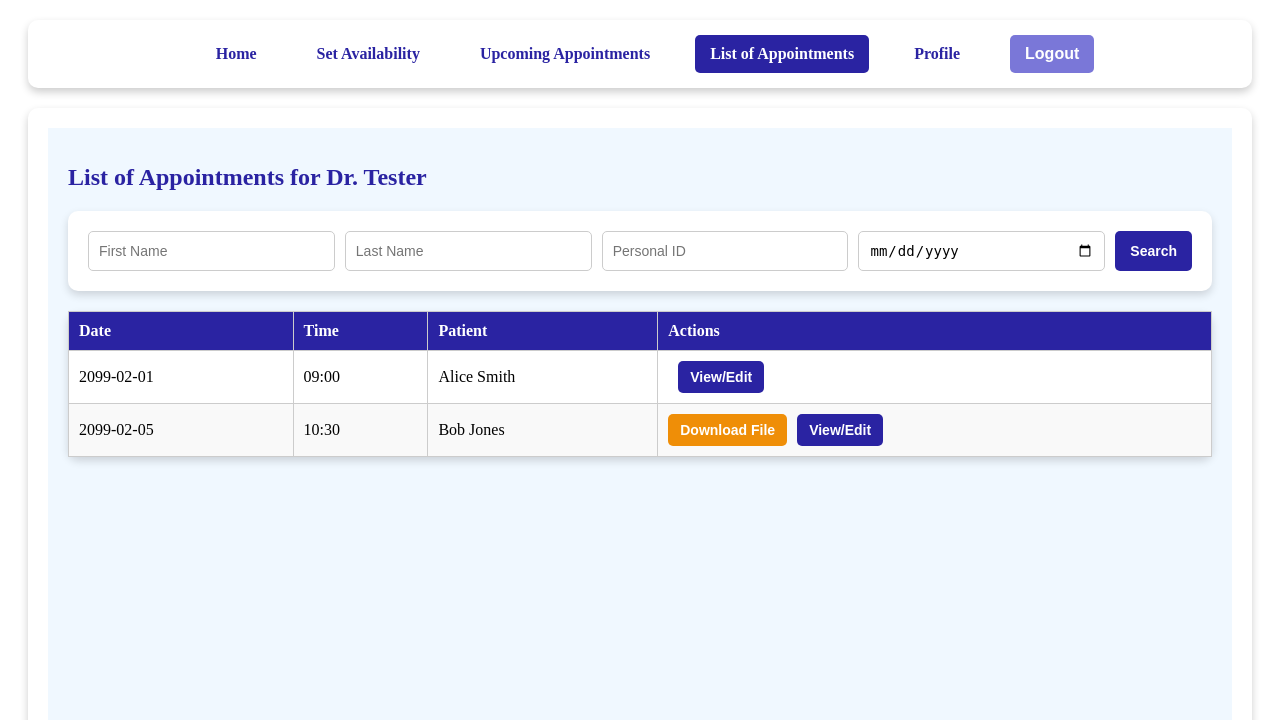
Test: List Of Appointments Page › filters appointments by search criteria
Type "Alice" into the field with placeholder "First Name" at (212, 251), box [88,231,335,271]
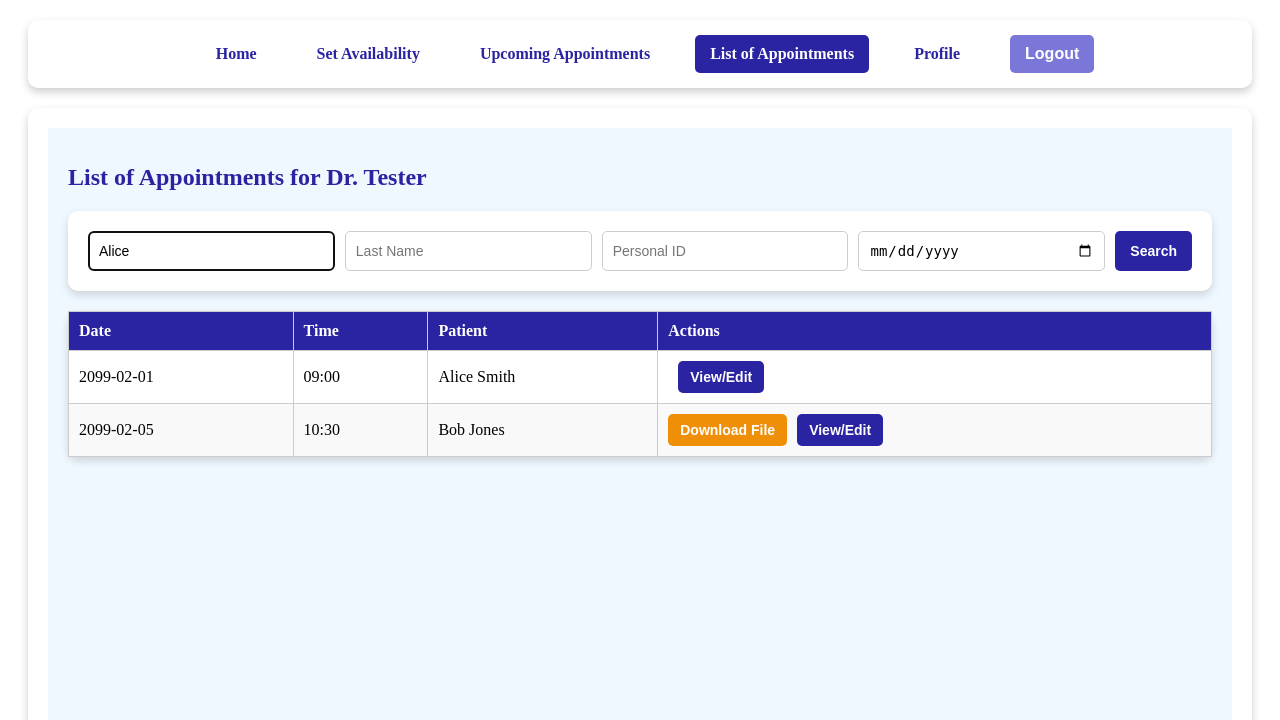
Click the button with class "list-search-button" at (1154, 251), box [1115,231,1192,271]
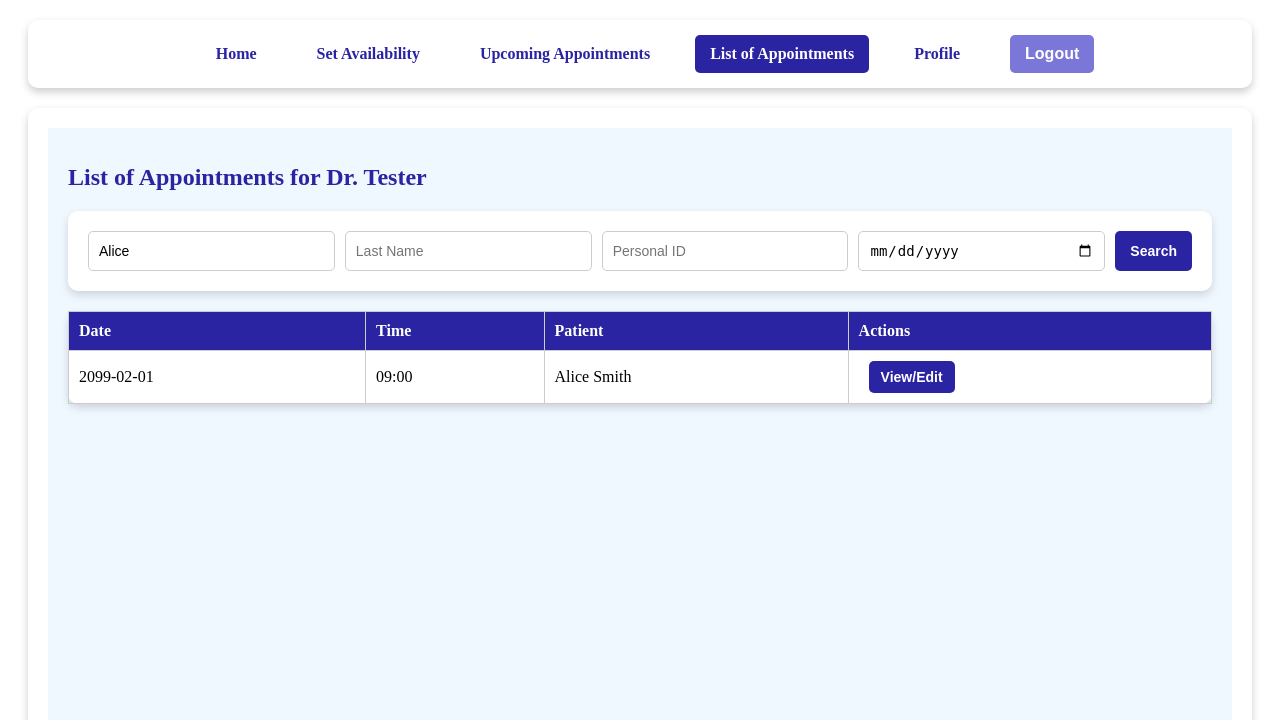
Expected: the text "Alice Smith" is shown, [544,351,848,404]
Expected: the text "Bob Jones" is gone
Clear the field with placeholder "First Name" at (212, 251), box [88,231,335,271]
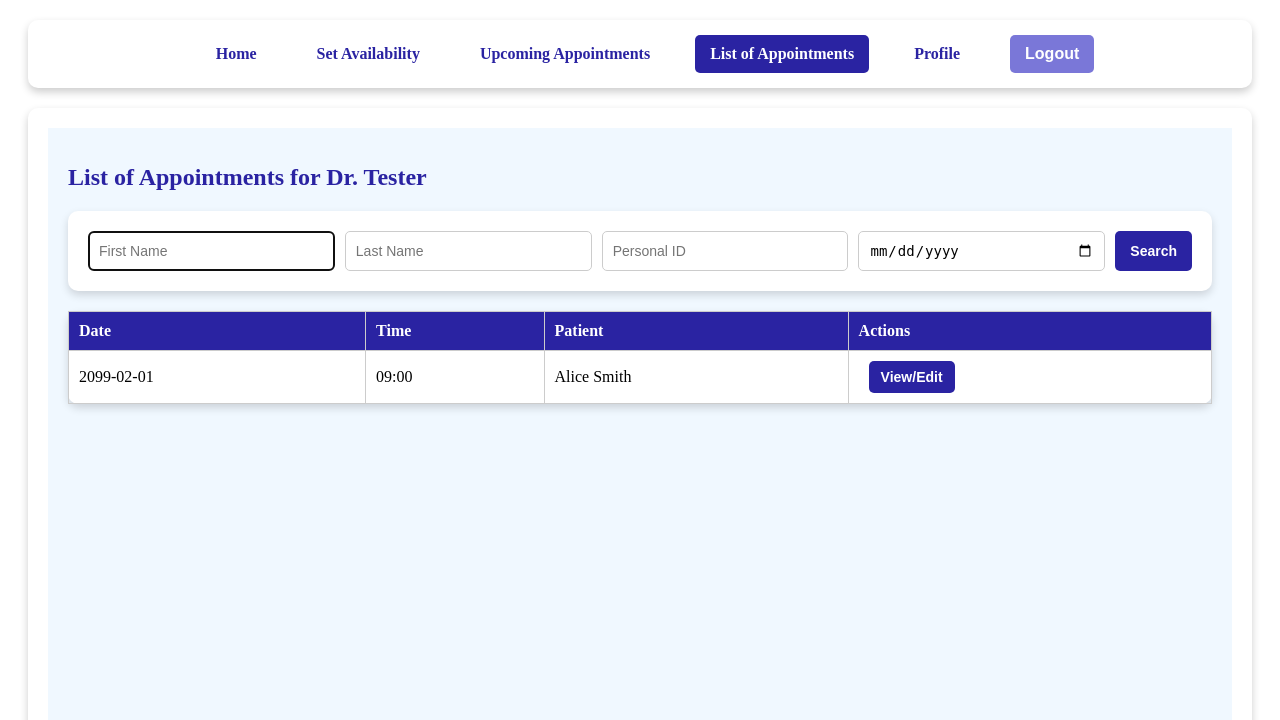
Type "2099-02-05" into the date field at (983, 251), box [859,231,1106,271]
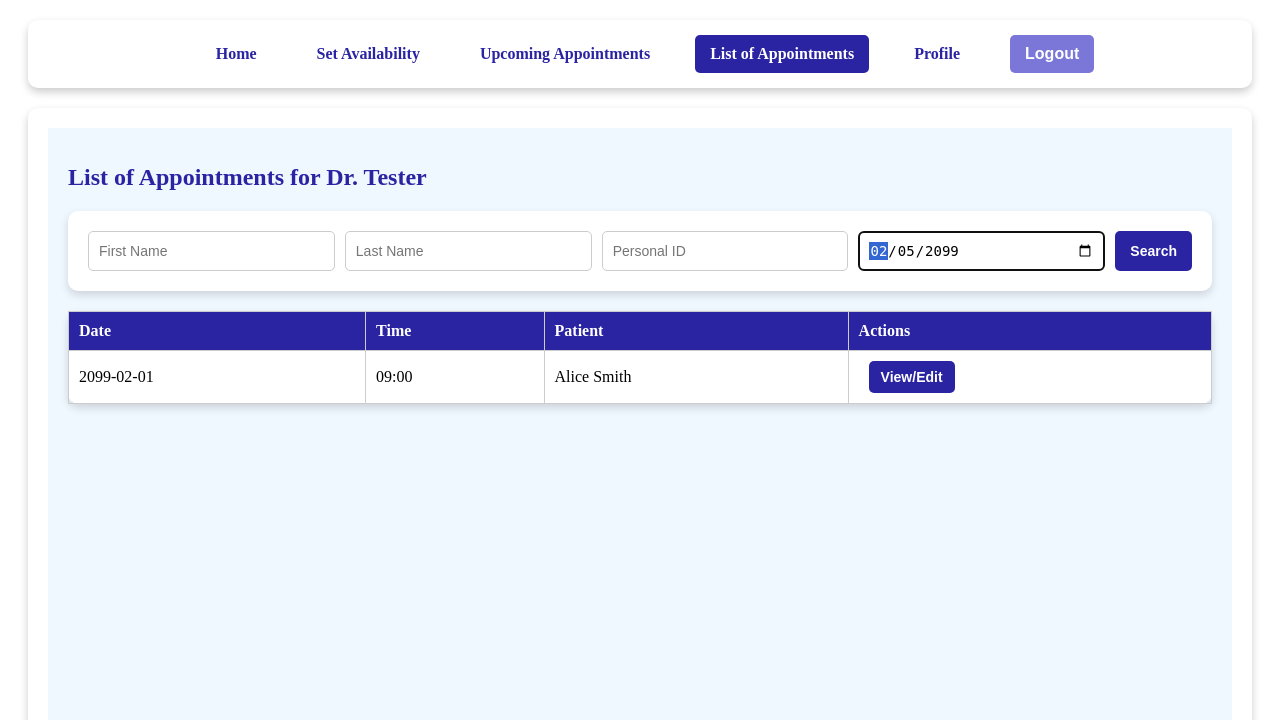
Click the button with class "list-search-button" at (1154, 251), box [1115,231,1192,271]
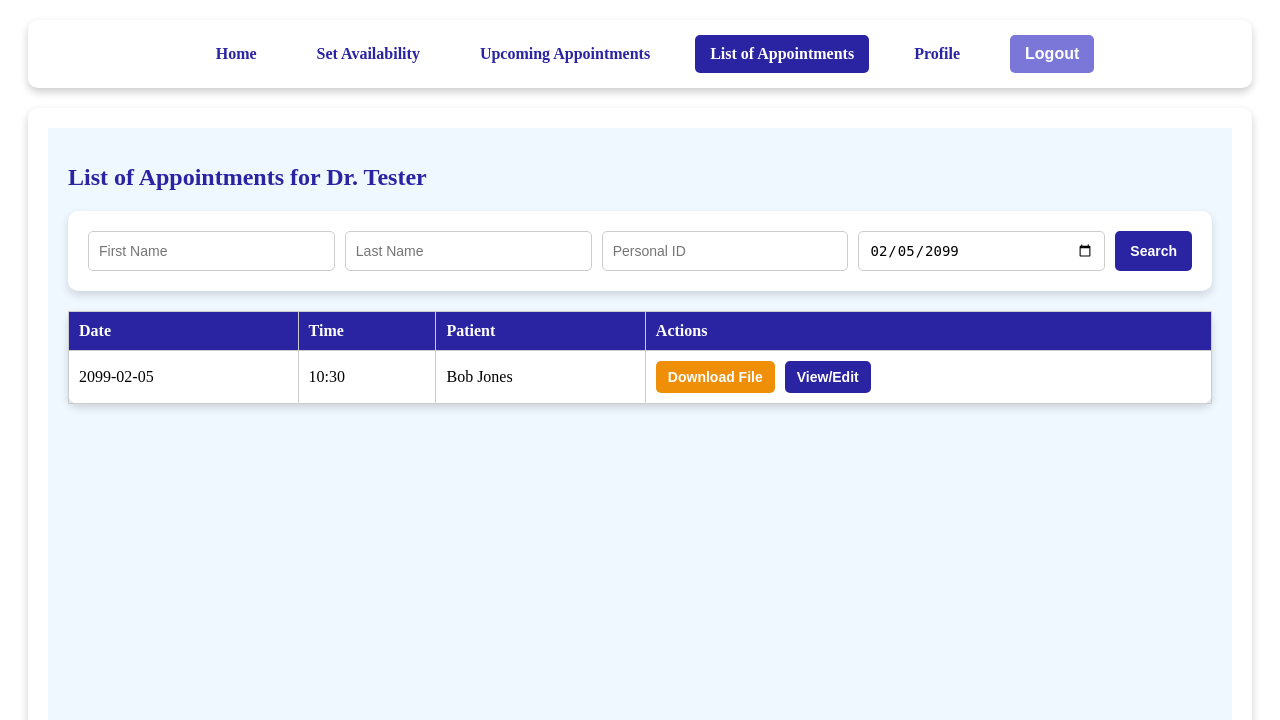
Expected: the text "Bob Jones" is shown, [436,351,645,404]
Expected: the text "Alice Smith" is gone
